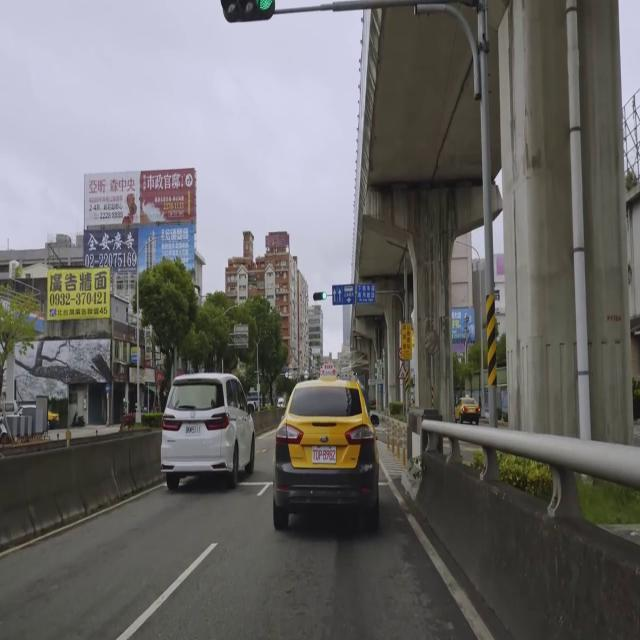green light: (219, 0, 277, 21), (312, 289, 327, 304)
